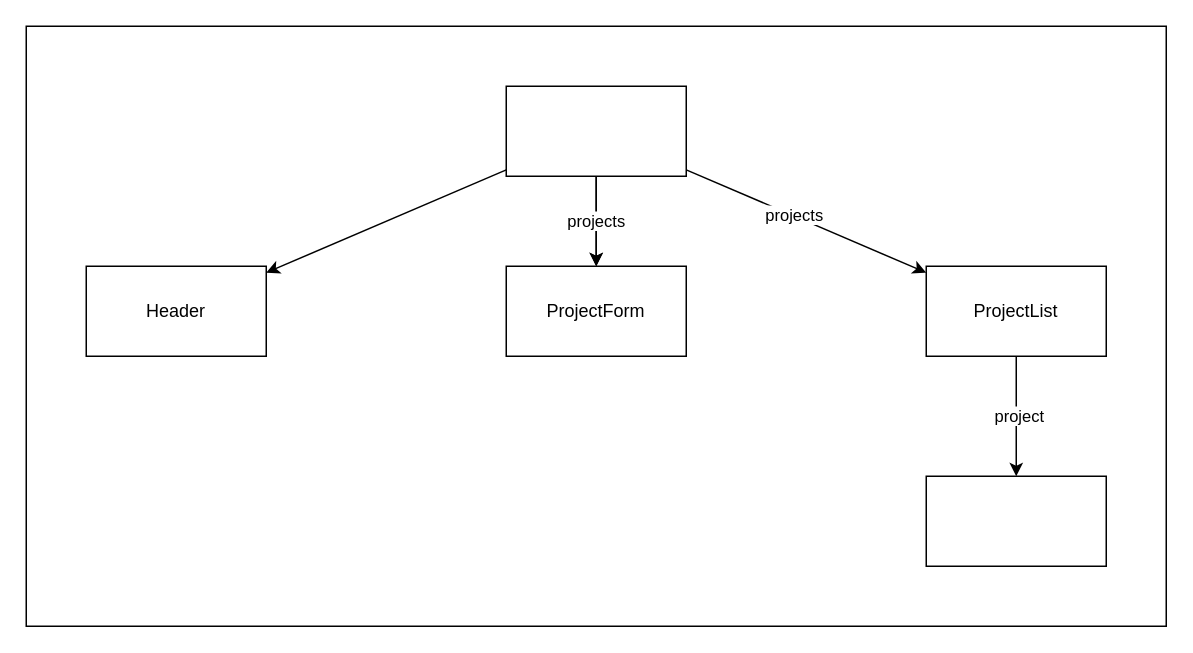
The diagram is 1193 pixels wide and 653 high, and some of its shapes have lost their labels. Here are the shapes that lost their labels. From the top down, the centre of each, then its label:
(x=595, y=130): App
(x=1015, y=520): ProjectListItem
